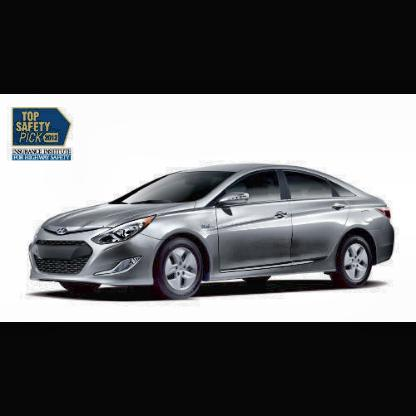Hyundai Sonata Hybrid Sedan 2012: (30, 165, 396, 298)
